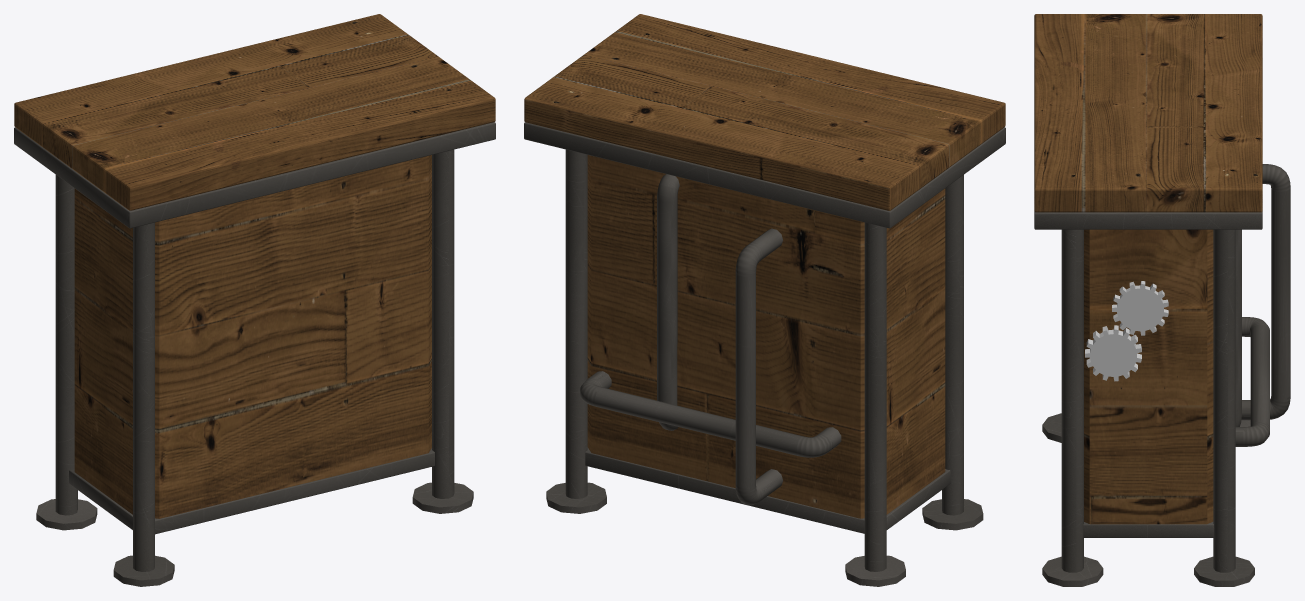
The model's file is commode.fbx.
3 views of the same model, side by side, from view 1: azimuth 30°, elevation 25°; view 2: azimuth 150°, elevation 25°; view 3: azimuth 270°, elevation 25° (orthographic).
Visible parts, largest first — view 1: Cube.001; view 2: Cube.001; view 3: Cube.001.
Part boxes in pixels (x1,y1,x2,y2): Cube.001: (14, 14, 495, 586); Cube.001: (524, 14, 1005, 586); Cube.001: (1034, 14, 1290, 586).
Size of the model in its own units: 110 by 118 by 68.05.
